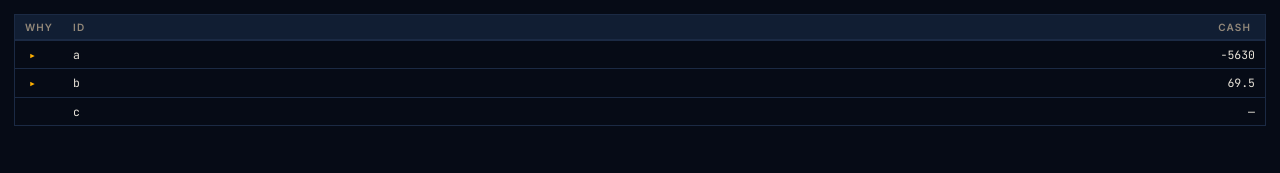
a row's detail › opens under its row on its toggle, and closes again
Check: the text "because E-L1" is not shown
Click the button named "Why a". click: (32, 55)
box: [25,46,40,63]
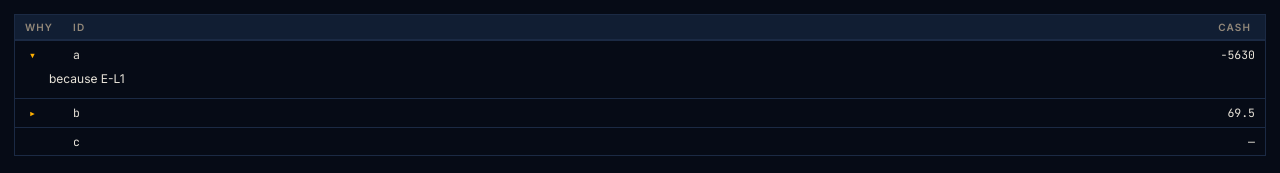
Check: the button named "Why a" is expanded
Click the button named "Why a". click: (32, 55)
box: [25,46,40,63]
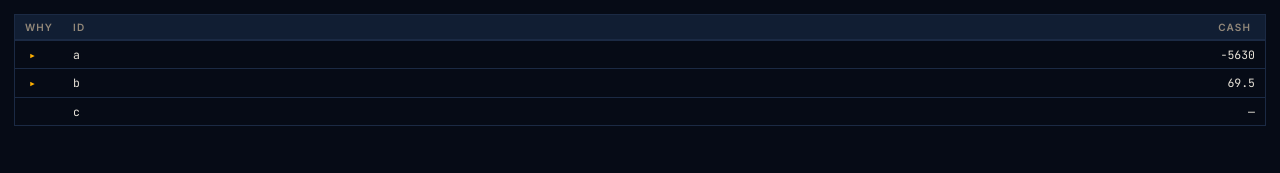
Check: the text "because E-L1" is gone
